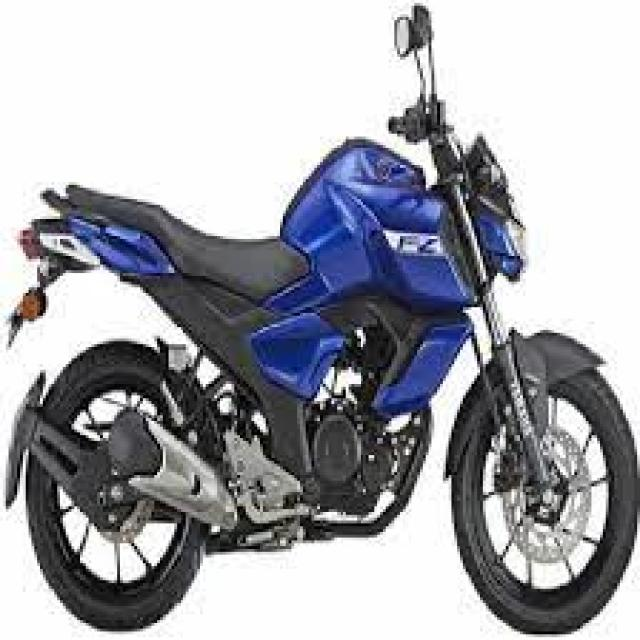MOTORCYCLE: (27, 150, 640, 630)
